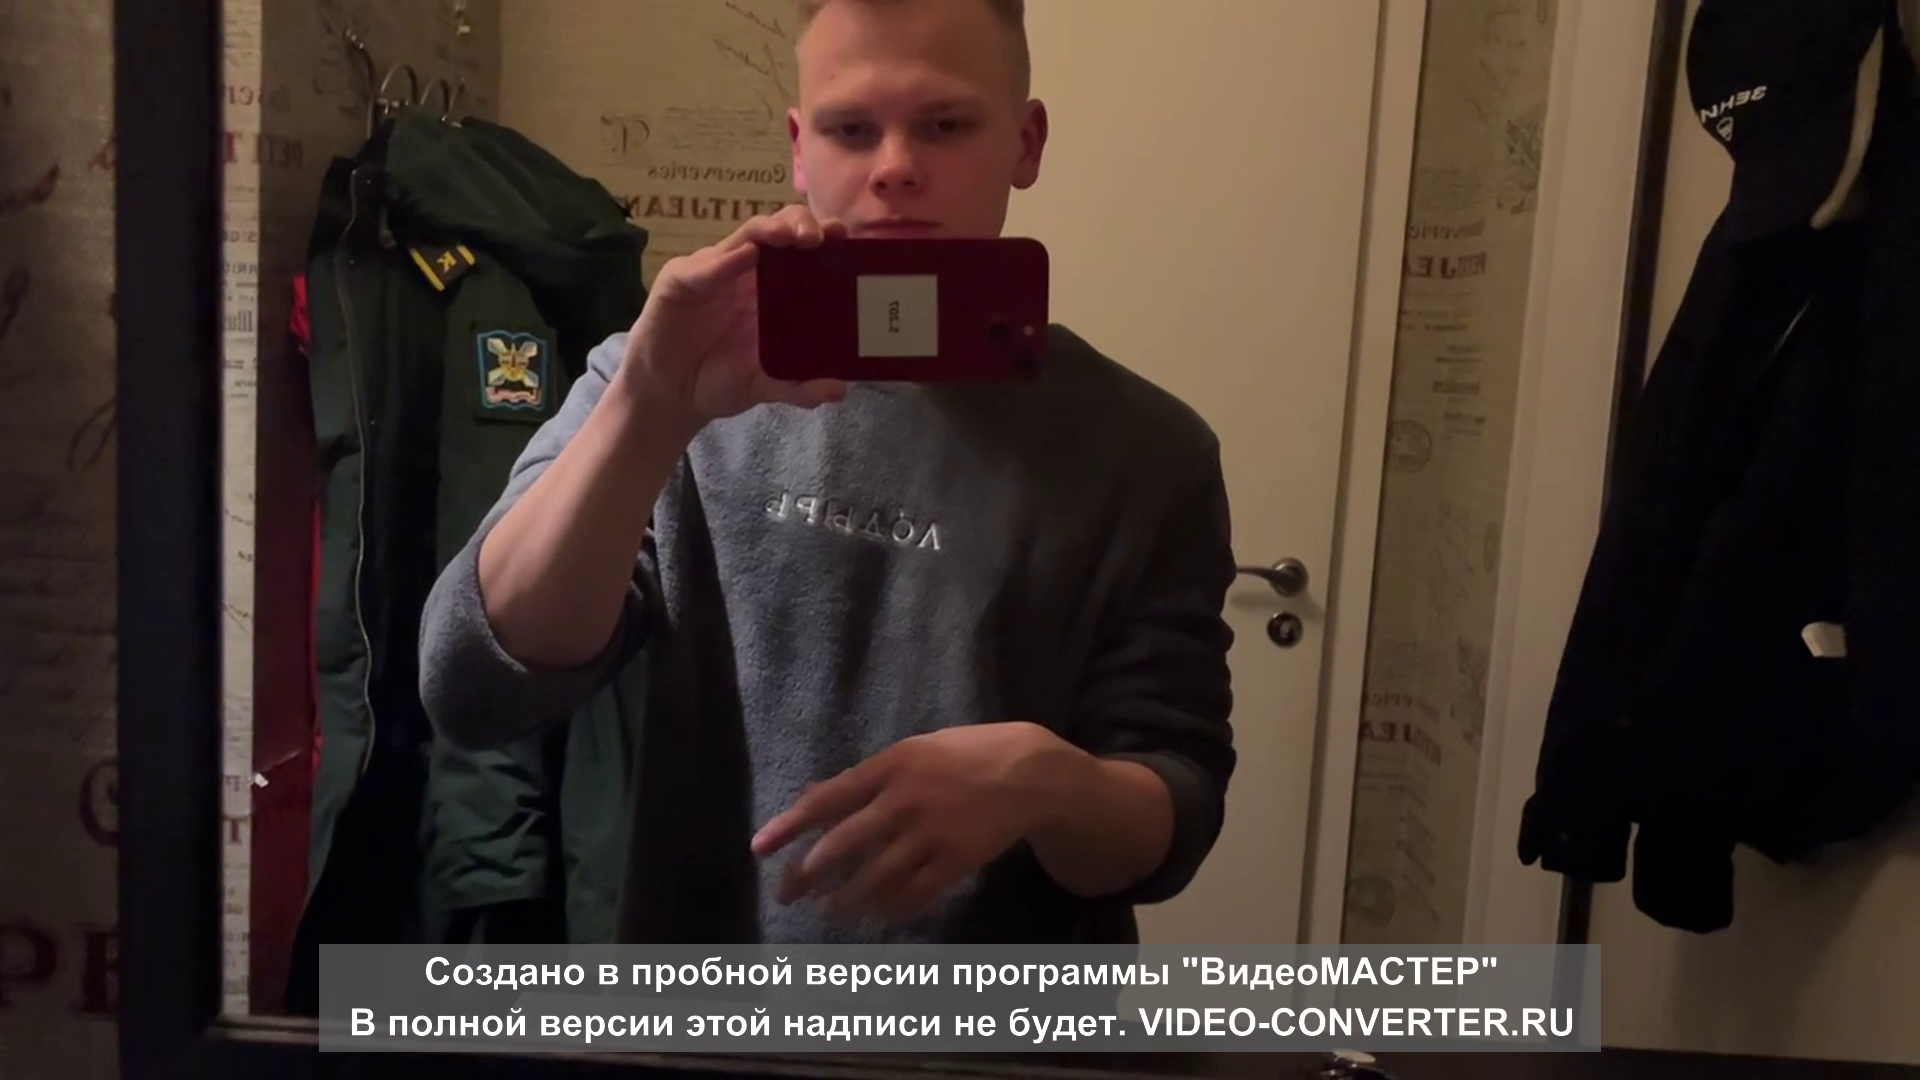Кисть: (752, 720, 1056, 934)
